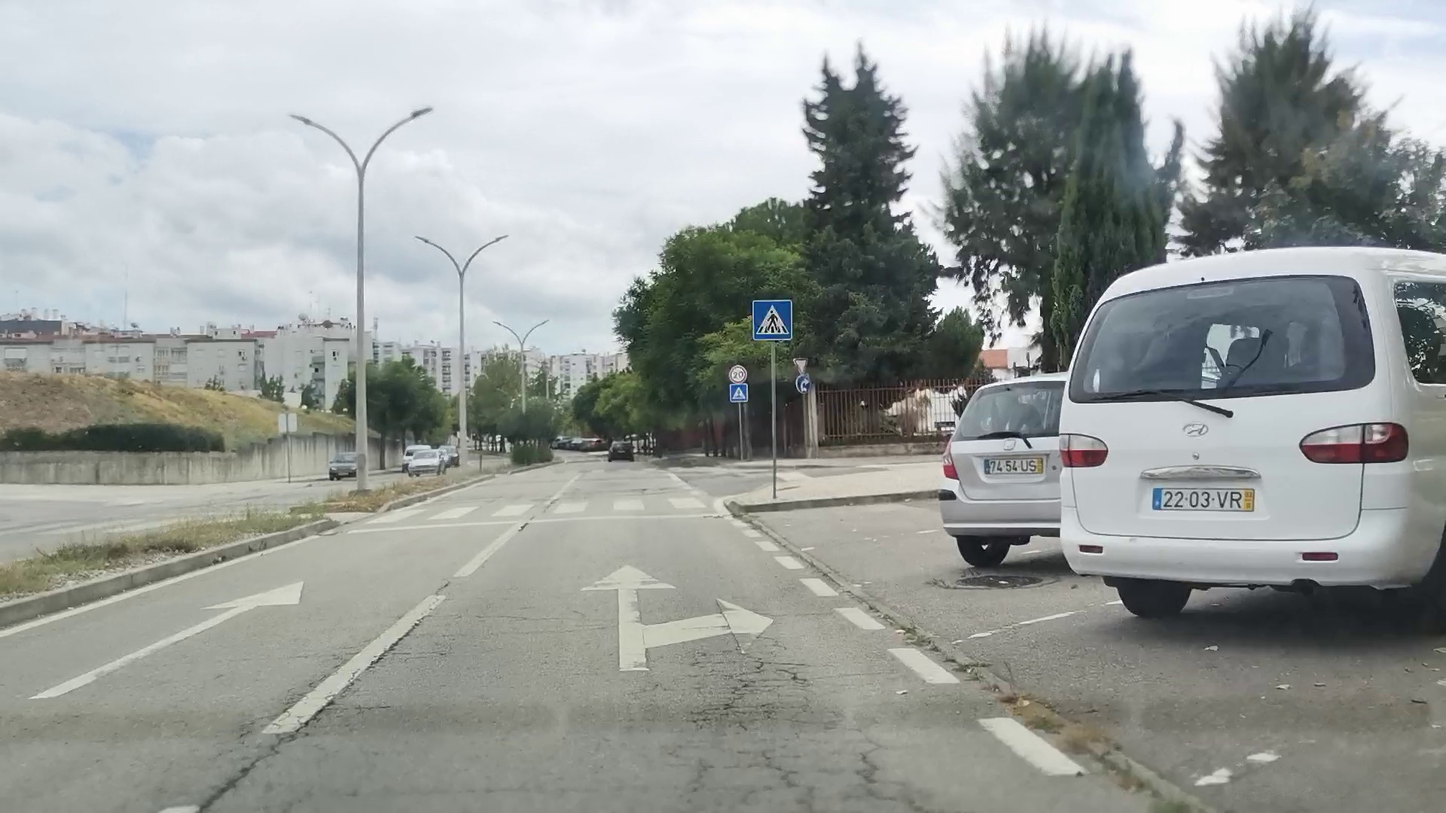Stairs: (363, 497, 715, 525)
